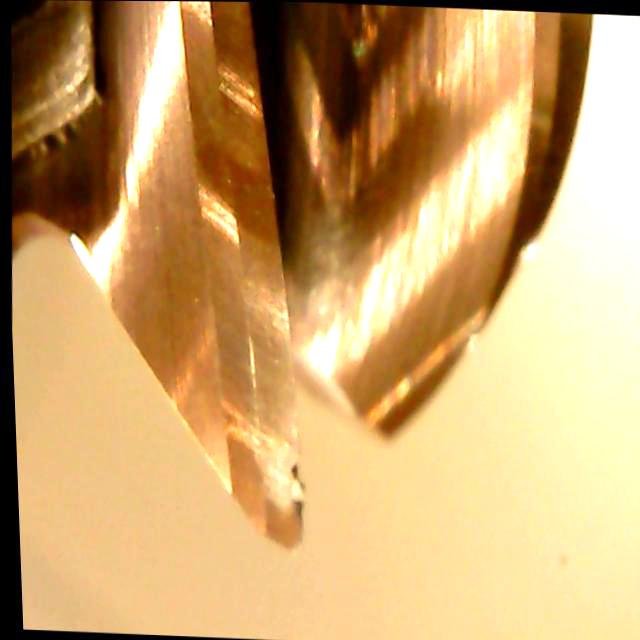Tool-wear-class-1: (181, 293, 328, 555)
